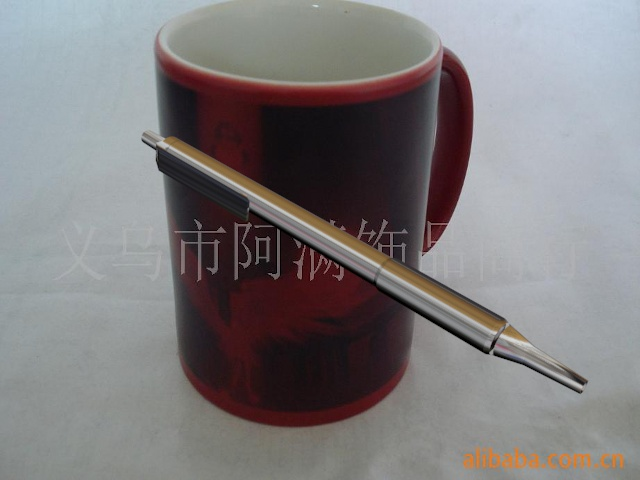pen: (137, 128, 593, 400)
